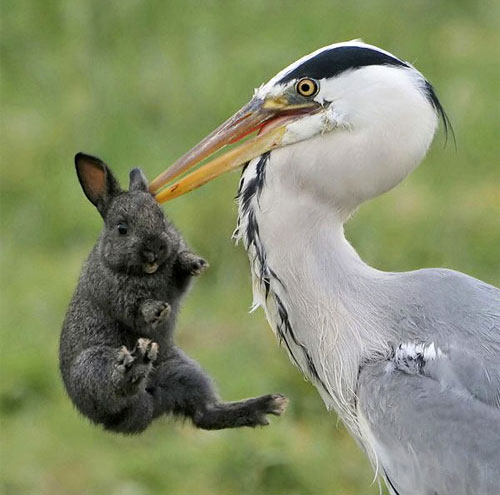heron: (65, 28, 497, 491)
